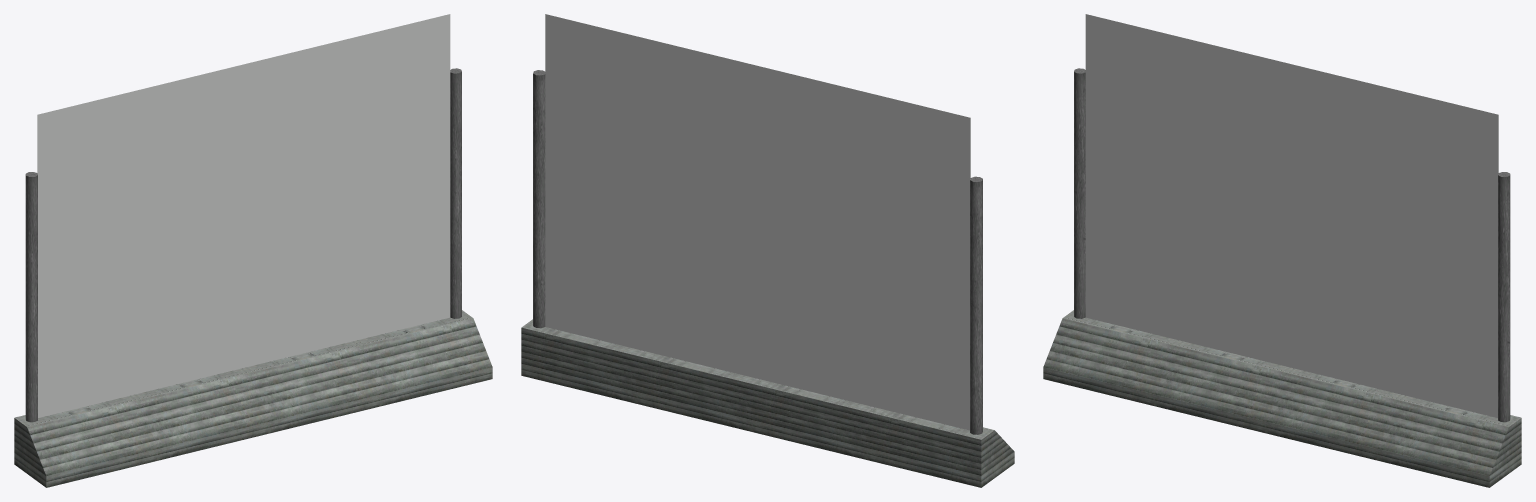
File: frn_desk_radar_topology_screen.fbx
3 renders of one model, left to right at view 1: azimuth 30°, elevation 25°; view 2: azimuth 150°, elevation 25°; view 3: azimuth 330°, elevation 25°, orthographic. The views are drawn at different scales.
Visible parts, largest first — view 1: mesh_node; view 2: mesh_node; view 3: mesh_node.
Part boxes in pixels (<box>): mesh_node: <box>14,14,492,487</box>; mesh_node: <box>521,14,1014,487</box>; mesh_node: <box>1043,14,1521,487</box>.
Size of the model in its own units: 4 by 3 by 0.5.
